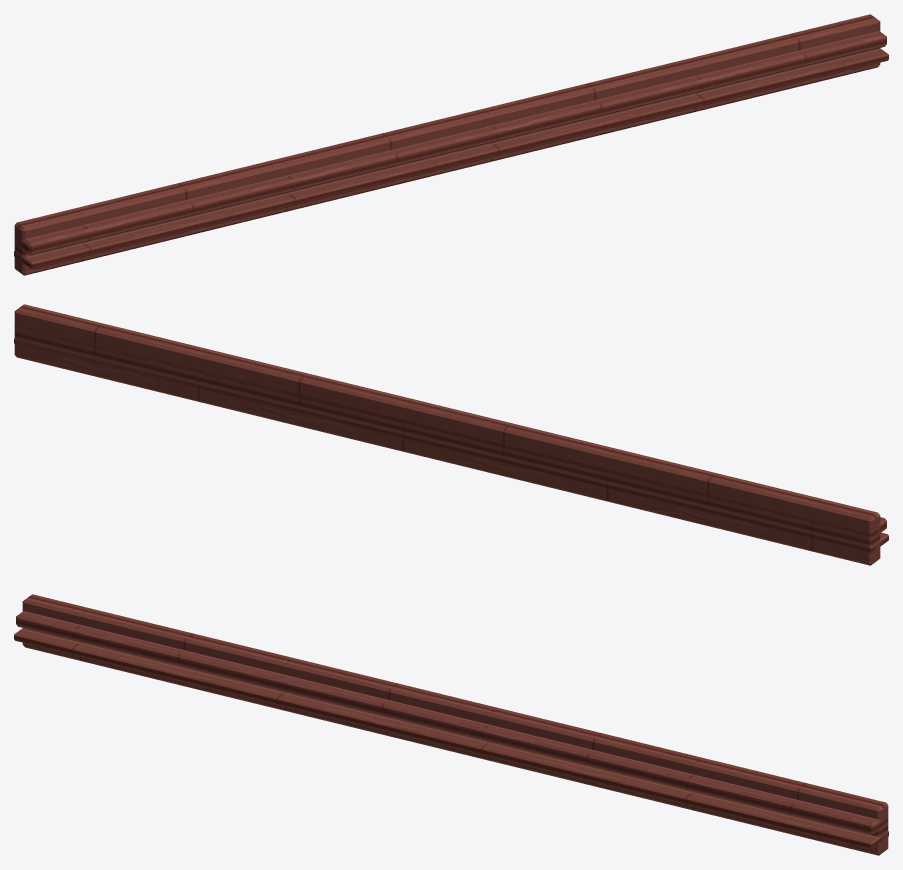
Rendered from MD_16_Baseboard.fbx.
3 views of the same model, one above another, from view 1: azimuth 30°, elevation 25°; view 2: azimuth 150°, elevation 25°; view 3: azimuth 330°, elevation 25° (orthographic).
Parts seen in each view (by area): view 1: MD_16_Baseboard_profile_band, MD_16_Baseboard_profile_band.001, MD_16_Baseboard_profile_band.002; view 2: MD_16_Baseboard_profile_band, MD_16_Baseboard_profile_band.001, MD_16_Baseboard_profile_band.002; view 3: MD_16_Baseboard_profile_band, MD_16_Baseboard_profile_band.001, MD_16_Baseboard_profile_band.002.
Part boxes in pixels (bbox=[...]): MD_16_Baseboard_profile_band: bbox=[14, 14, 880, 275]; MD_16_Baseboard_profile_band.001: bbox=[14, 31, 886, 254]; MD_16_Baseboard_profile_band.002: bbox=[14, 48, 888, 269]; MD_16_Baseboard_profile_band: bbox=[14, 304, 880, 565]; MD_16_Baseboard_profile_band.001: bbox=[14, 322, 886, 538]; MD_16_Baseboard_profile_band.002: bbox=[14, 338, 888, 553]; MD_16_Baseboard_profile_band: bbox=[22, 594, 888, 855]; MD_16_Baseboard_profile_band.001: bbox=[16, 611, 888, 834]; MD_16_Baseboard_profile_band.002: bbox=[14, 628, 888, 849].
Bounding box in the file's own units: 3 × 0.16 × 0.11.
1 material, 1 textured.
